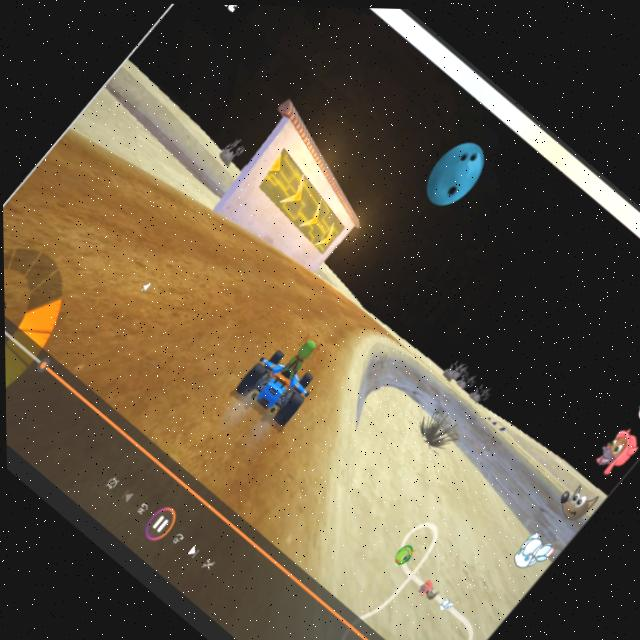off_track: (325, 334, 564, 563)
player_kart: (230, 318, 339, 432)
track: (245, 239, 387, 371)
